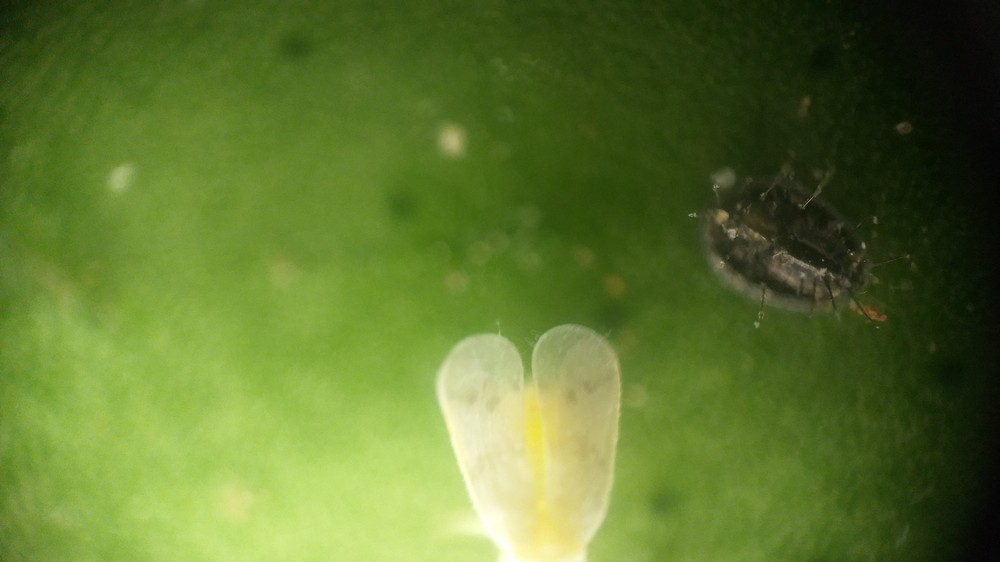Mosca Blanca: (419, 318, 641, 562)
